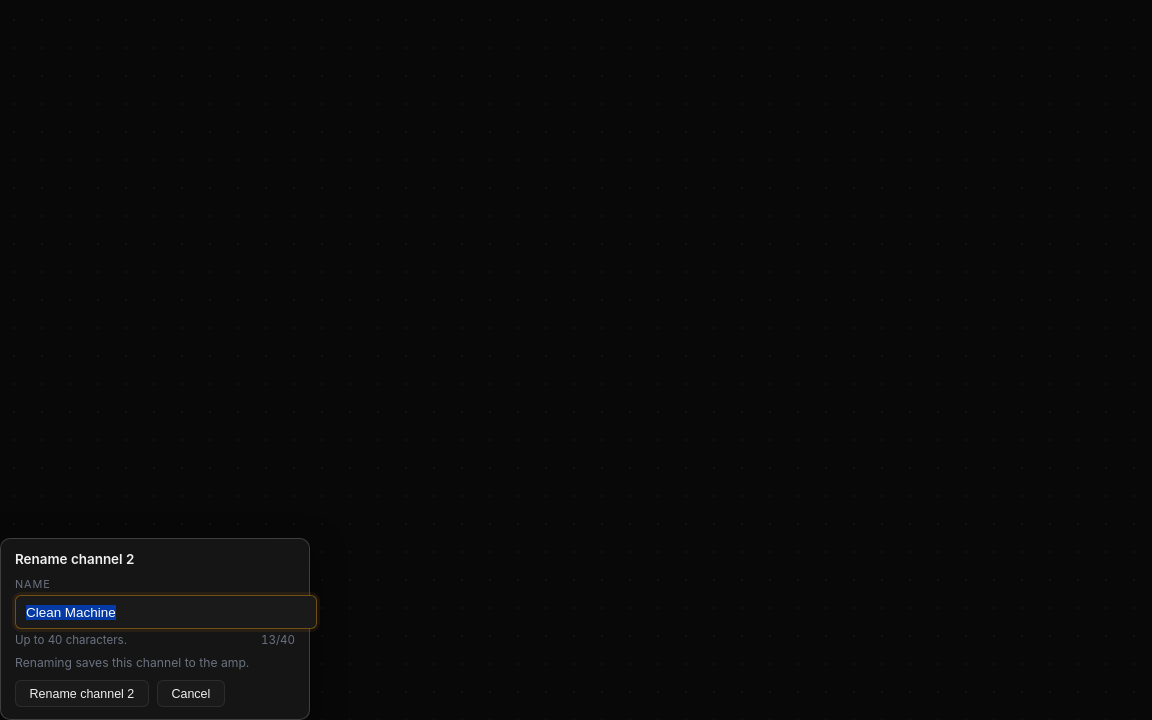
Scenario: rename popover › channel mode › shows the channel-changed result
(page scrolled)
Replace the text in the field labelled "Name" with "New Name". click: (166, 612)
box: x1=15 y1=595 x2=317 y2=629
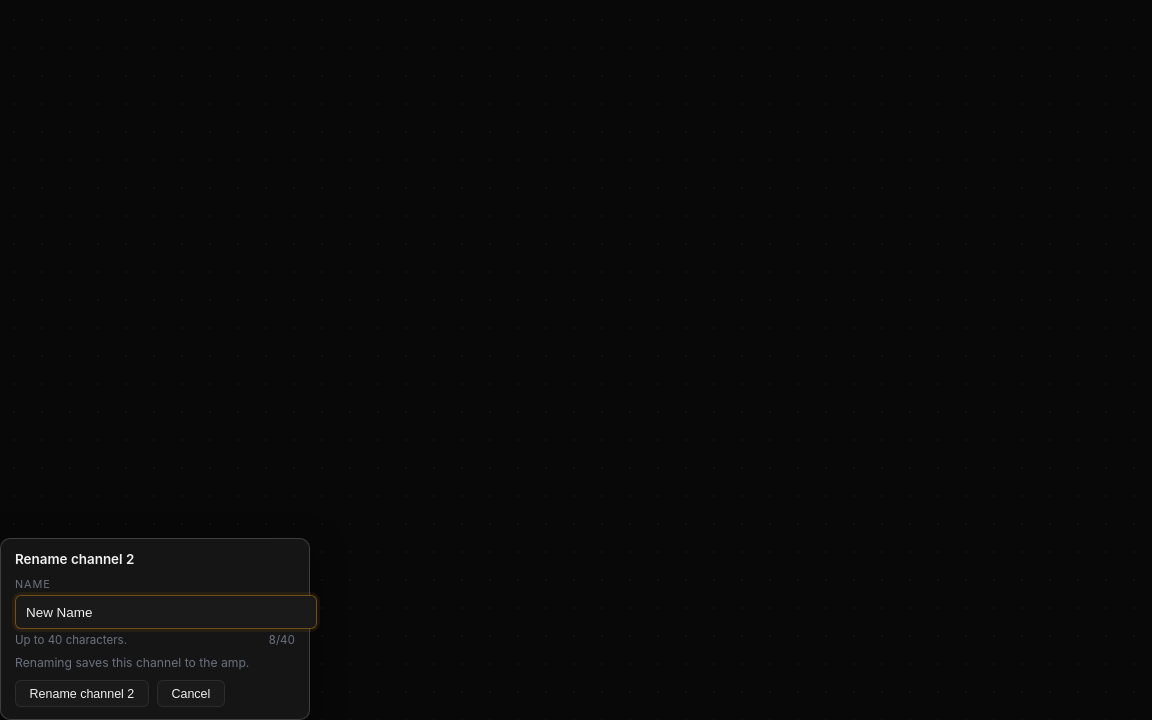
Click the button "Rename channel 2". click: (82, 694)
box: x1=15 y1=680 x2=149 y2=707
(page scrolled)
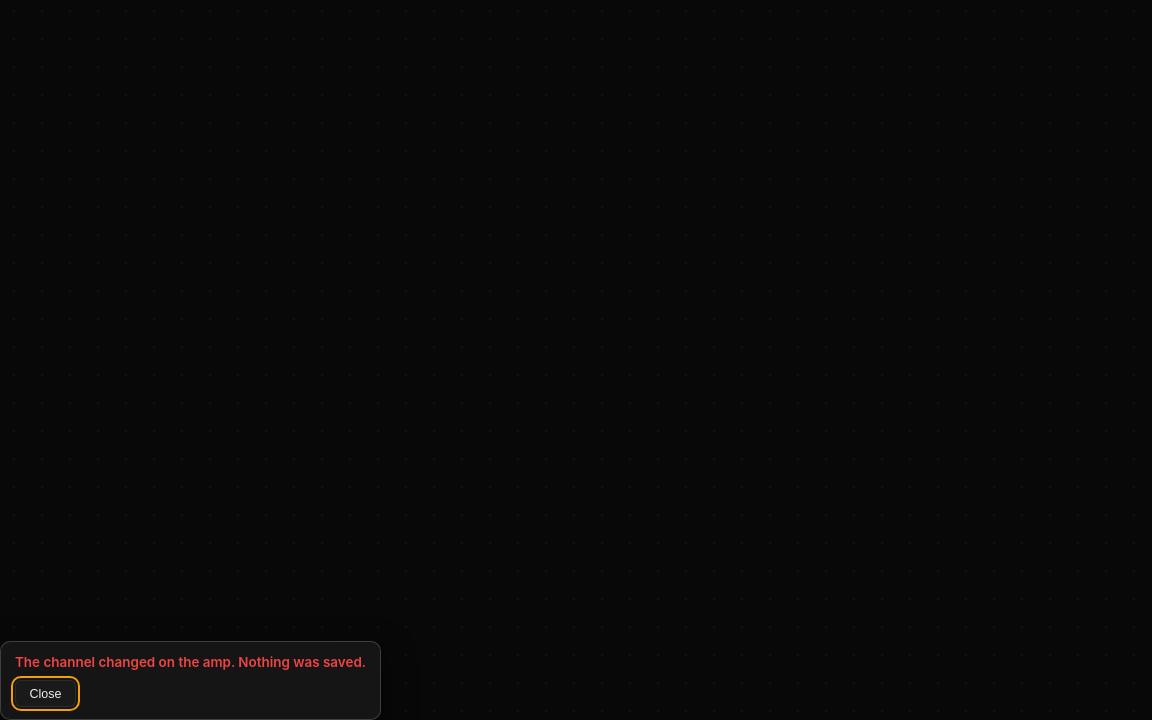
Check: the message reads "The channel changed on the amp. Nothing was saved.", box x1=15 y1=654 x2=366 y2=670
